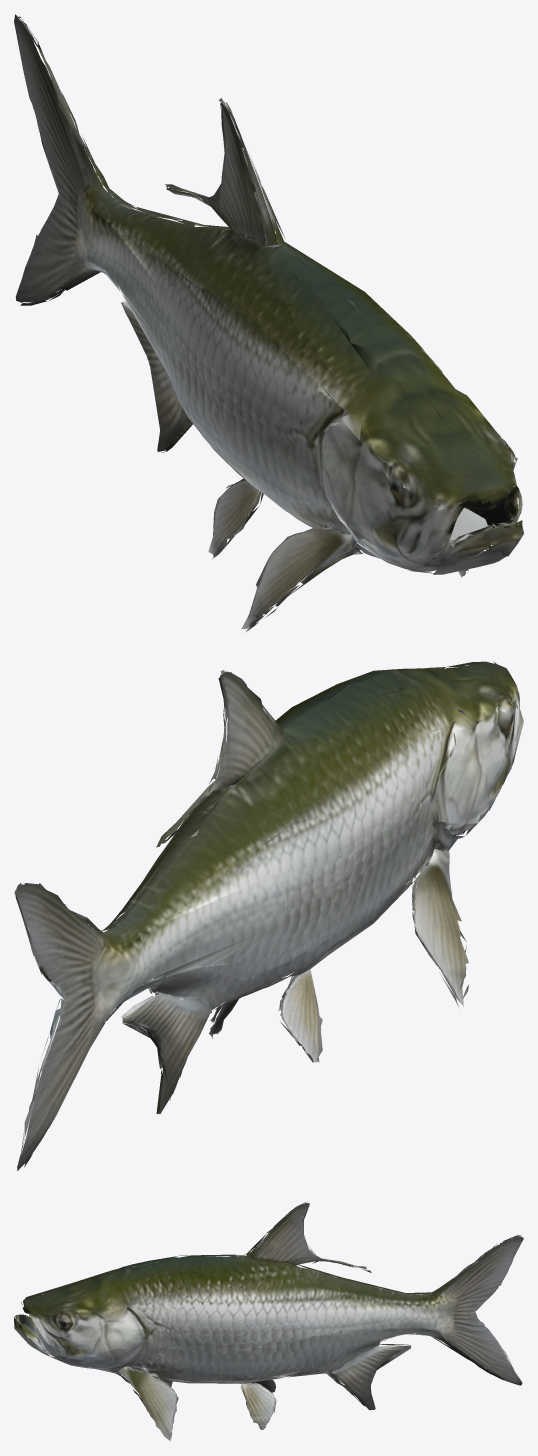
Rendered from tarpon.glb.
The picture shows the model from 3 angles, top to bottom: view 1: azimuth 30°, elevation 25°; view 2: azimuth 150°, elevation 25°; view 3: azimuth 270°, elevation 25°; orthographic projection. The views are drawn at different scales.
Parts seen in each view (by area): view 1: tarpon.001; view 2: tarpon.001; view 3: tarpon.001.
Boxes of the visible parts, x1,y1,x2,y2 form: tarpon.001: (14,14,523,632); tarpon.001: (14,661,523,1170); tarpon.001: (14,1201,523,1441).
Size of the model in its own units: 0.262 by 0.4703 by 0.9995.
1 material, 1 textured.
